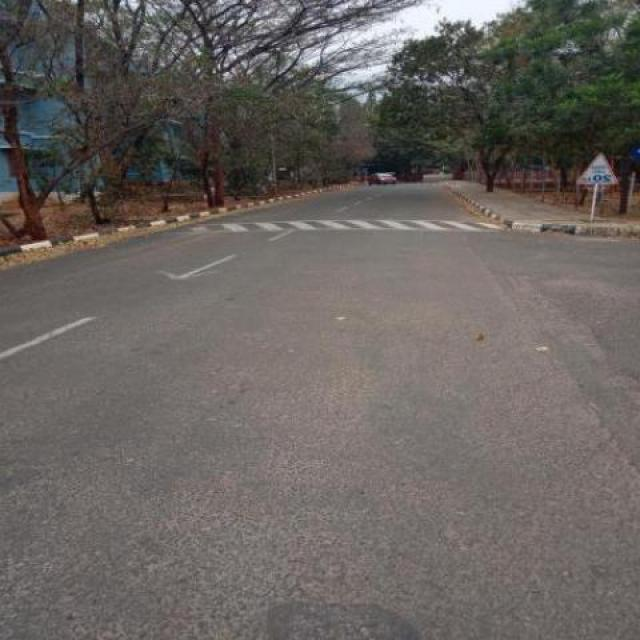Speed Bump: (174, 218, 496, 233)
